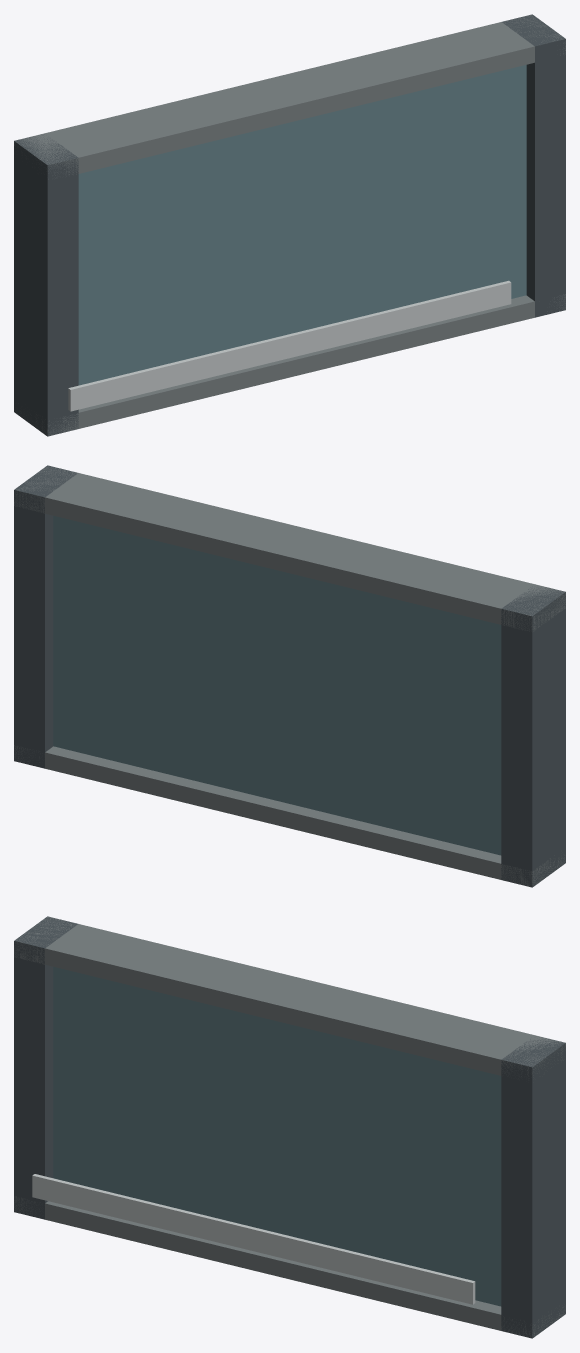
The model's file is car_window.glb.
3 views of the same model, one above another, from view 1: azimuth 30°, elevation 25°; view 2: azimuth 150°, elevation 25°; view 3: azimuth 330°, elevation 25° (orthographic).
Visible parts, largest first — view 1: car_window; view 2: car_window; view 3: car_window.
Boxes of the visible parts, x1,y1,x2,y2 form: car_window: (14,14,565,436); car_window: (14,465,565,887); car_window: (14,916,565,1338).
Bounding box in the file's own units: 0.96 × 0.48 × 0.1152.
